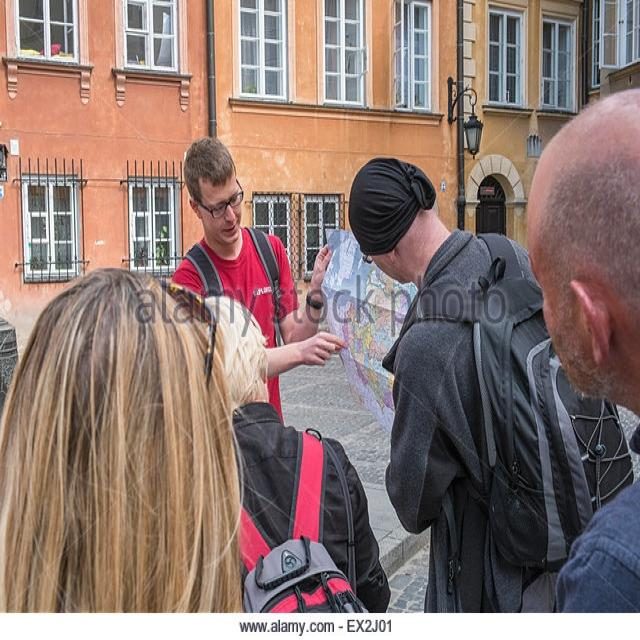body: (0, 261, 252, 639), (344, 152, 546, 613), (520, 78, 639, 639), (203, 291, 393, 614), (164, 131, 351, 431)
